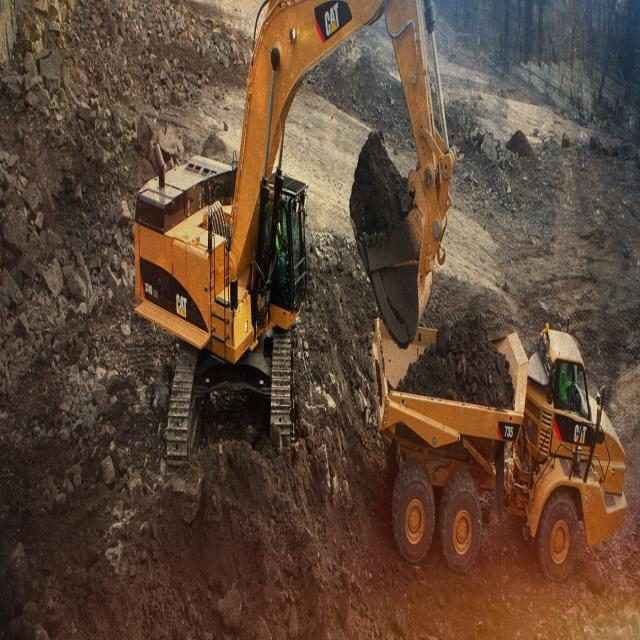dump_truck: (367, 284, 631, 617)
excavator: (126, 6, 453, 548)
